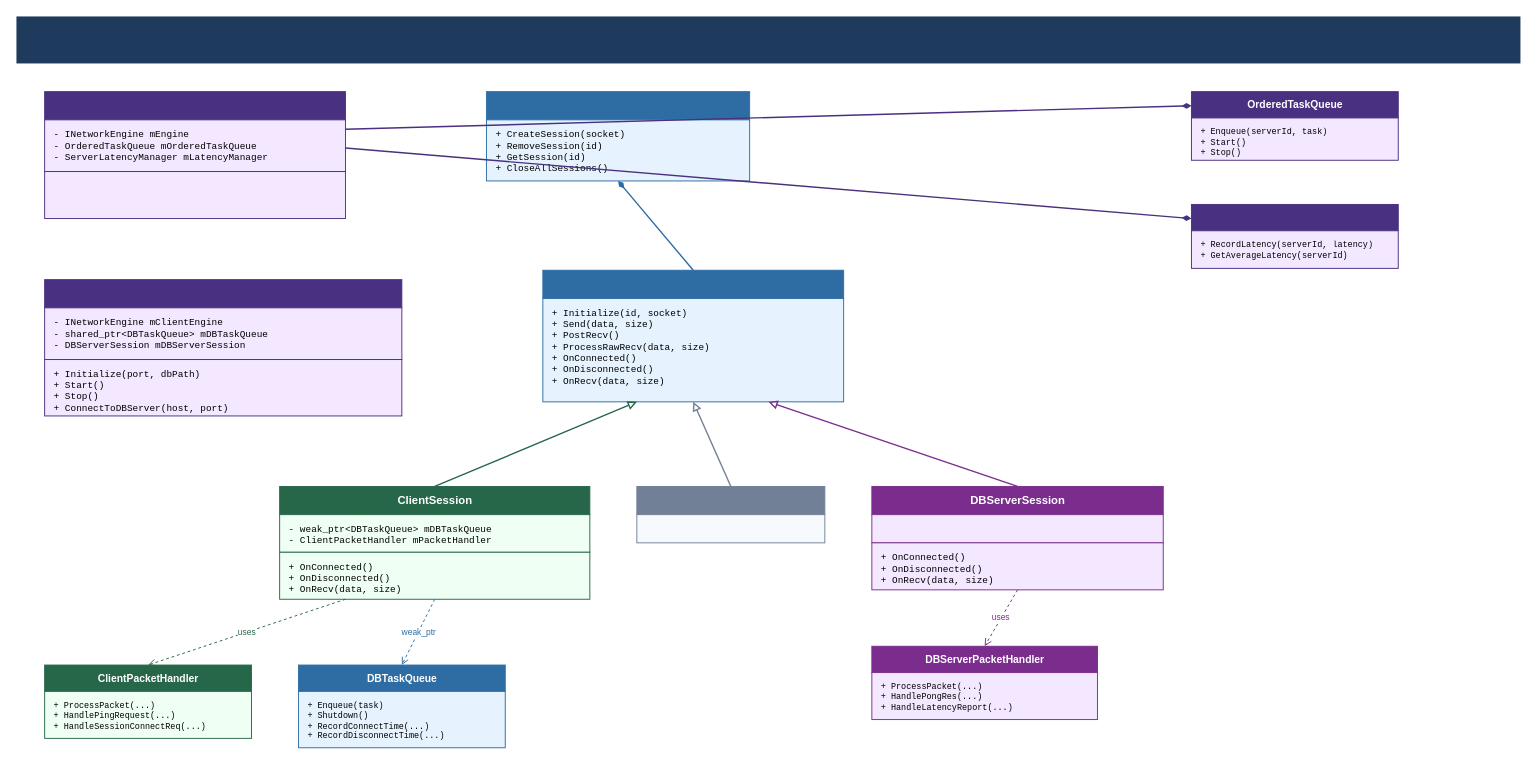
The diagram is 1536 pixels wide and 766 high, and some of its shapes have lost their labels. Here are the shapes that lost their labels. From the top down, the centre of each, then its label:
(768,39): Session UML Class Diagram
(194,105): TestDBServer
(618,105): SessionManager
(194,195): + Initialize(port) + Start() + Stop()
(1294,217): ServerLatencyManager
(223,293): TestServer
(693,283): Session
(730,500): ServerSession
(730,528): (empty)
(1017,528): - DBServerPacketHandler mPacketHandler
